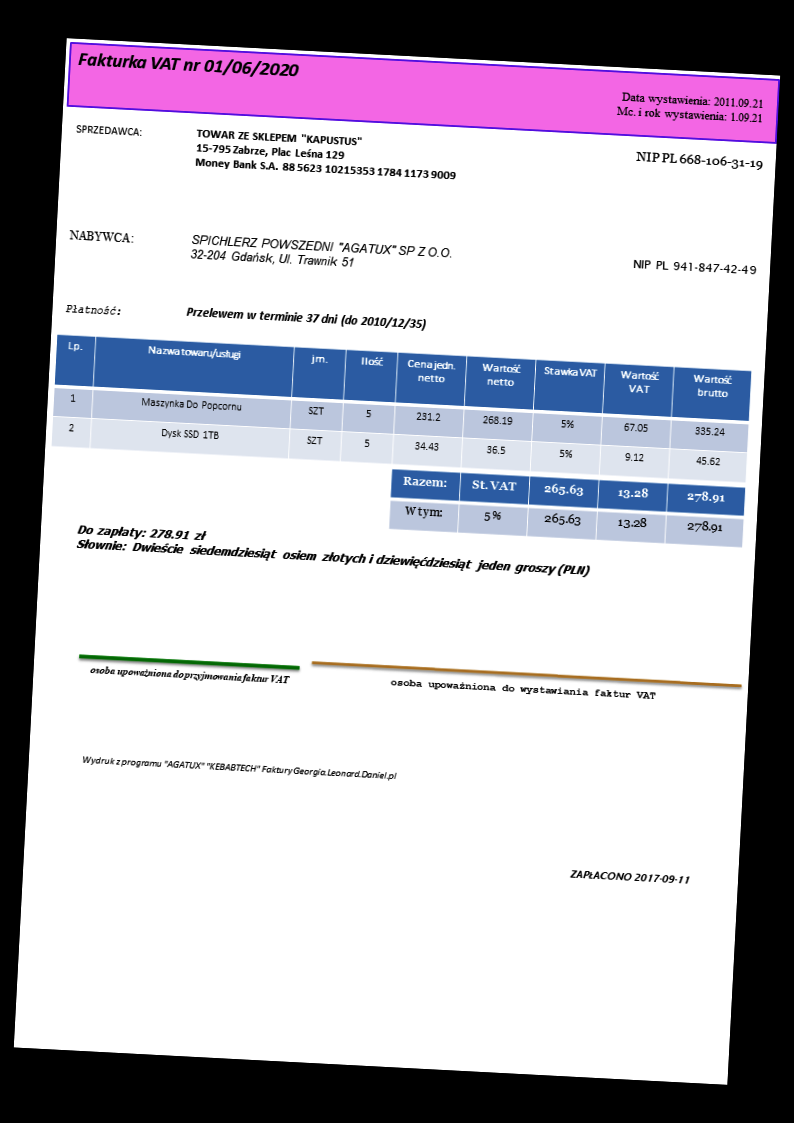Table: (50, 332, 753, 486), (388, 467, 747, 549)
TextBox: (74, 521, 593, 581), (191, 127, 458, 183), (187, 230, 456, 276), (81, 753, 399, 784), (389, 675, 658, 703), (76, 49, 301, 82), (183, 304, 427, 334), (612, 87, 765, 127), (88, 663, 291, 688), (632, 148, 764, 174), (631, 257, 759, 278), (568, 866, 692, 886), (73, 121, 143, 139), (67, 227, 136, 245), (64, 300, 122, 318)
